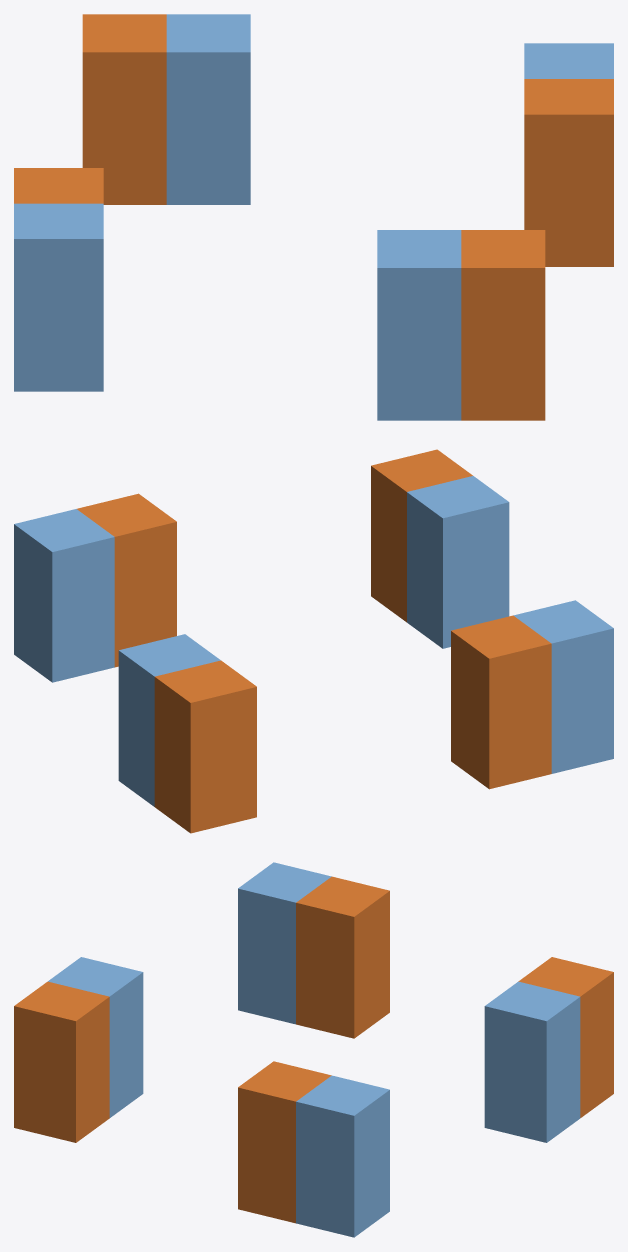
File: Magnetic_power.fbx
The picture shows the model from 3 angles, top to bottom: view 1: azimuth 30°, elevation 25°; view 2: azimuth 150°, elevation 25°; view 3: azimuth 270°, elevation 25°; orthographic projection. The views are drawn at different scales.
Parts seen in each view (by area): view 1: pCube2, pCube1, pCube3, pCube4; view 2: pCube3, pCube4, pCube1, pCube2; view 3: pCube3, pCube4, pCube1, pCube2.
Boxes of the visible parts, x1,y1,x2,y2 form: pCube2: [377, 230, 545, 420]; pCube1: [82, 14, 250, 204]; pCube3: [14, 168, 103, 391]; pCube4: [524, 43, 613, 266]; pCube3: [451, 600, 613, 789]; pCube4: [14, 493, 176, 682]; pCube1: [118, 634, 256, 833]; pCube2: [371, 449, 509, 648]; pCube3: [238, 862, 389, 1038]; pCube4: [238, 1061, 389, 1237]; pCube1: [484, 957, 613, 1142]; pCube2: [14, 957, 143, 1142].
Size of the model in its own units: 6.7 by 1.5 by 6.7.
